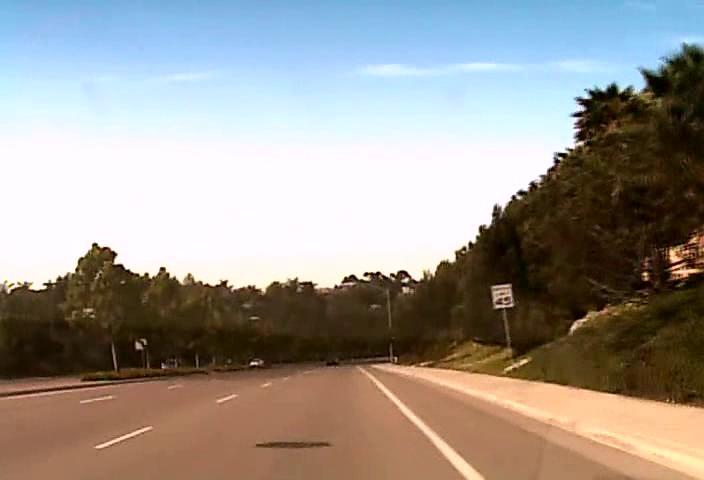speedLimit45: (490, 282, 515, 309)
